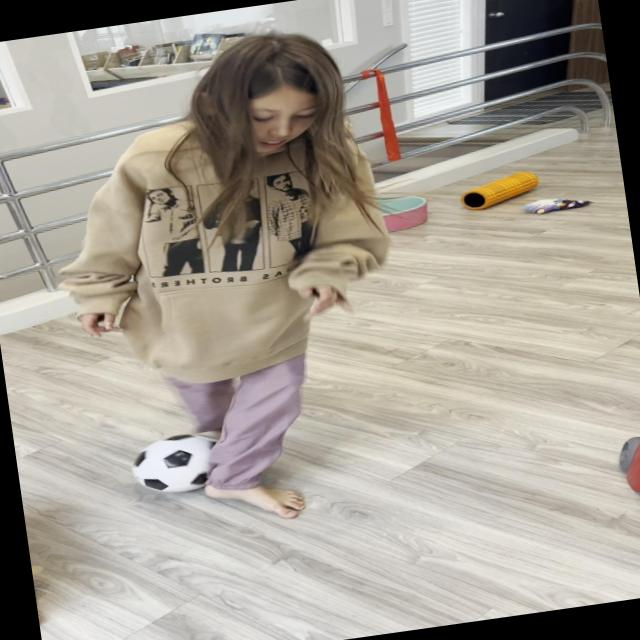Soccer Ball: (129, 428, 236, 498)
